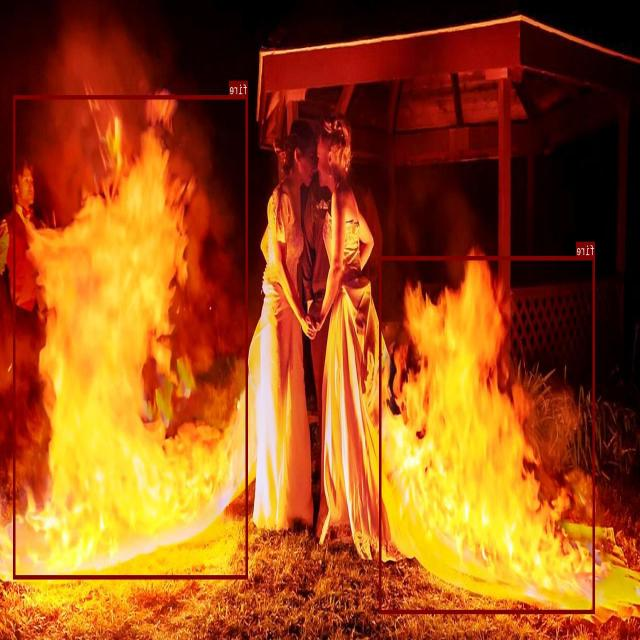fire: (13, 95, 248, 579), (380, 256, 595, 613)
